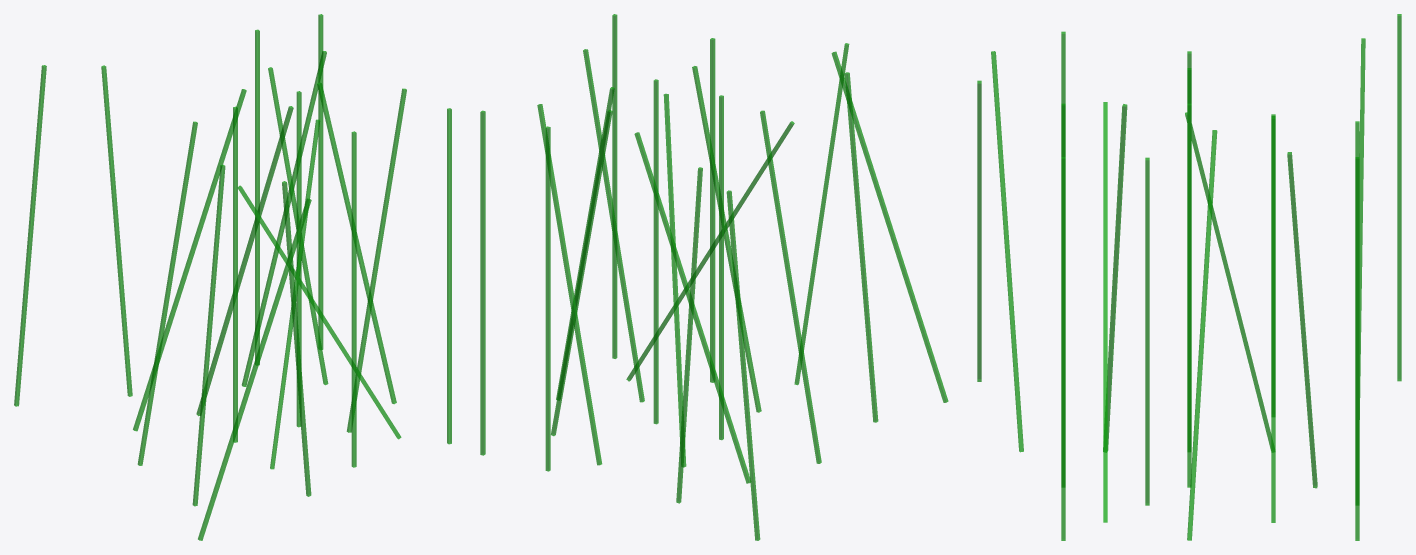
File: laserVert.fbx
The picture shows the model from 3 angles, left to right: view 1: azimuth 30°, elevation 25°; view 2: azimuth 150°, elevation 25°; view 3: azimuth 270°, elevation 25°; orthographic projection. The views are drawn at different scales.
Parts seen in each view (by area): view 1: Cube.016; view 2: Cube.016; view 3: Cube.016.
Part boxes in pixels (x1,y1,x2,y2): Cube.016: (14, 14, 451, 540); Cube.016: (480, 14, 948, 540); Cube.016: (977, 14, 1401, 540).
Size of the model in its own units: 91.06 by 101 by 101.
